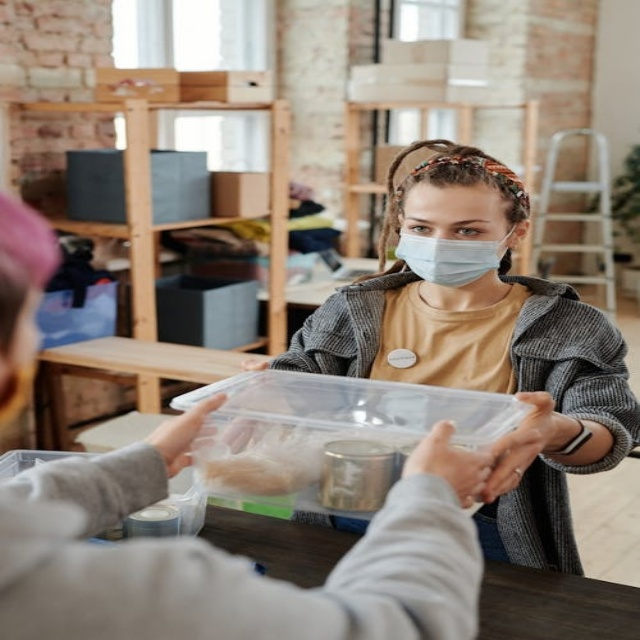Mascara: (394, 226, 513, 287)
Sin_gafas: (402, 210, 490, 241)
Sin_guantes: (400, 418, 511, 509), (481, 387, 564, 505), (143, 390, 231, 474)
